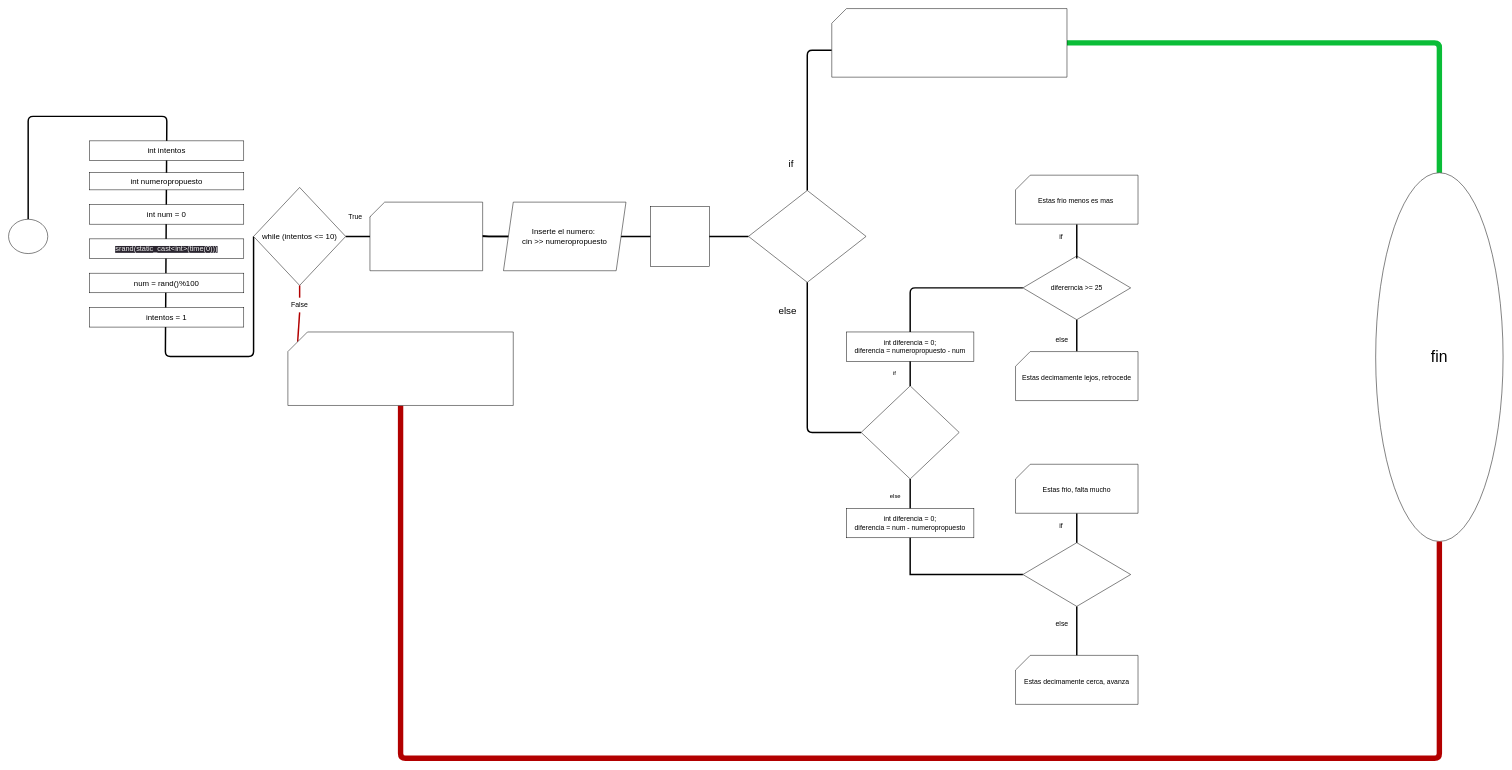
The diagram is 1512 pixels wide and 770 high, and some of its shapes have lost their labels. Here are the shapes that lost their labels. From the top down, the centre of each, then its label:
At (949,42): "Felicidades lo logro, su numero es << num;".
At (28,236): "Inicio".
At (426,236): "Intentos (intentos)".
At (679,236): "++intentos".
At (807,236): "num == numeropropuesto".
At (400,368): "Tus 10 vidas se han acabado tu numero era: num".
At (910,432): "numeropropuesto > num".
At (1076,574): "diferencia>=15".
